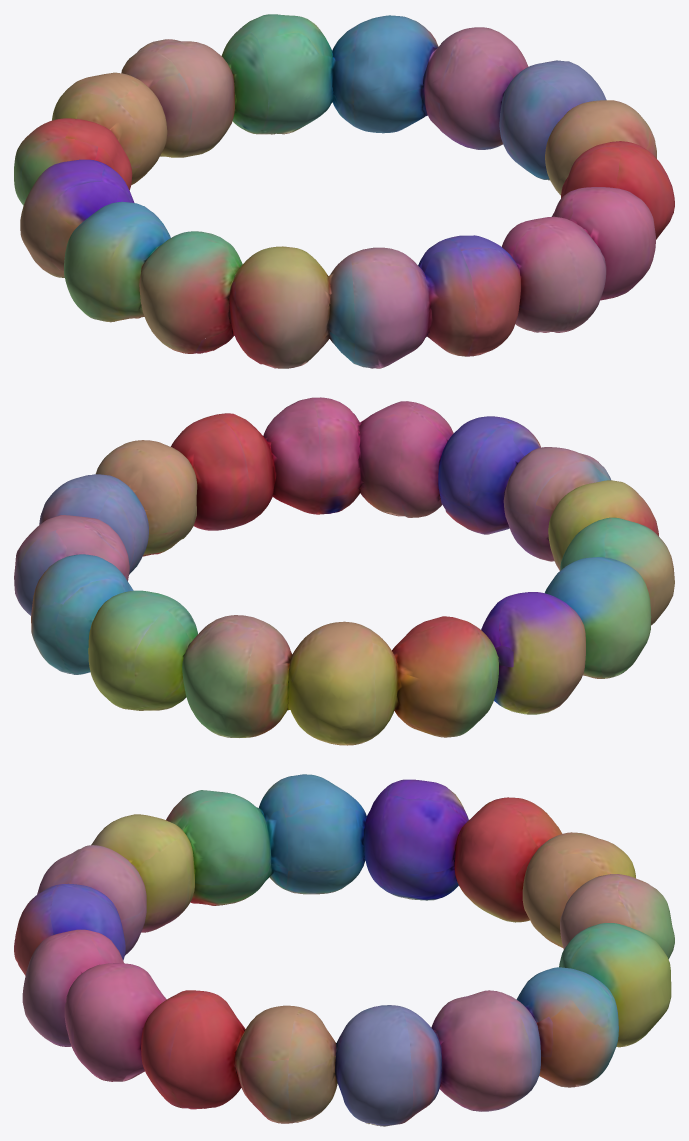
Rendered from acc_necklace_beads_01.glb.
3 renders of one model, top to bottom at view 1: azimuth 30°, elevation 25°; view 2: azimuth 150°, elevation 25°; view 3: azimuth 270°, elevation 25°, orthographic.
Visible parts, largest first — view 1: acc_necklace_beads_01; view 2: acc_necklace_beads_01; view 3: acc_necklace_beads_01.
Part boxes in pixels (x1,y1,x2,y2): acc_necklace_beads_01: (14,14,674,368); acc_necklace_beads_01: (14,397,674,745); acc_necklace_beads_01: (14,774,674,1126).
Bounding box in the file's own units: 0.91 × 0.1599 × 0.9121.
Materials: 1 (1 with a texture image).
